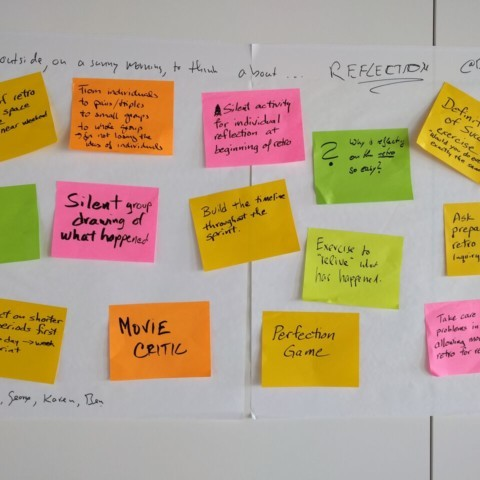stickynote: (189, 178, 301, 273), (50, 182, 160, 264), (66, 78, 175, 157), (302, 227, 403, 312), (202, 88, 306, 168), (108, 301, 212, 379), (312, 128, 415, 206), (260, 311, 360, 390)
